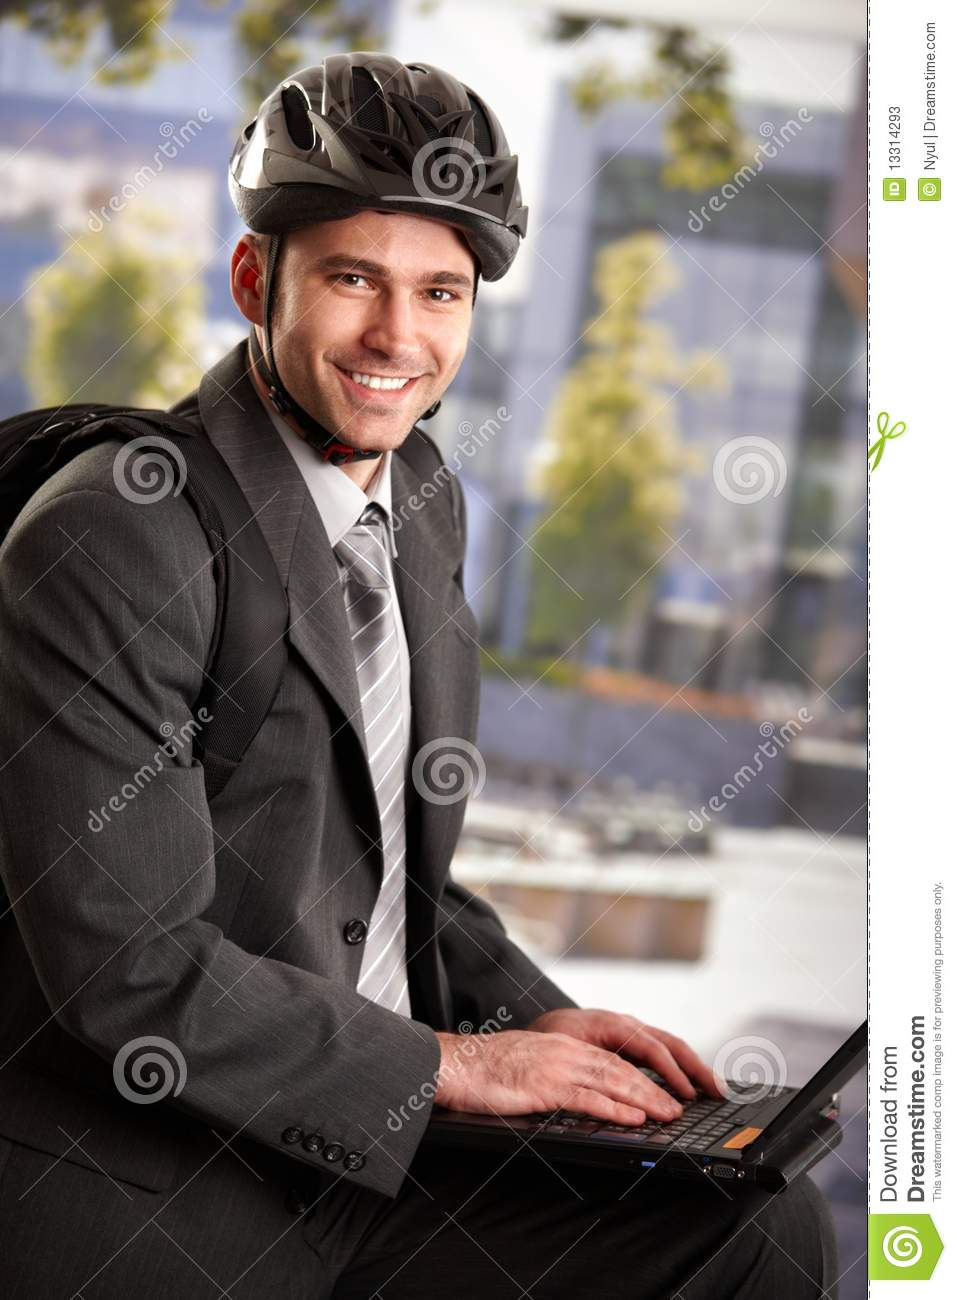helmet: (227, 52, 528, 458)
